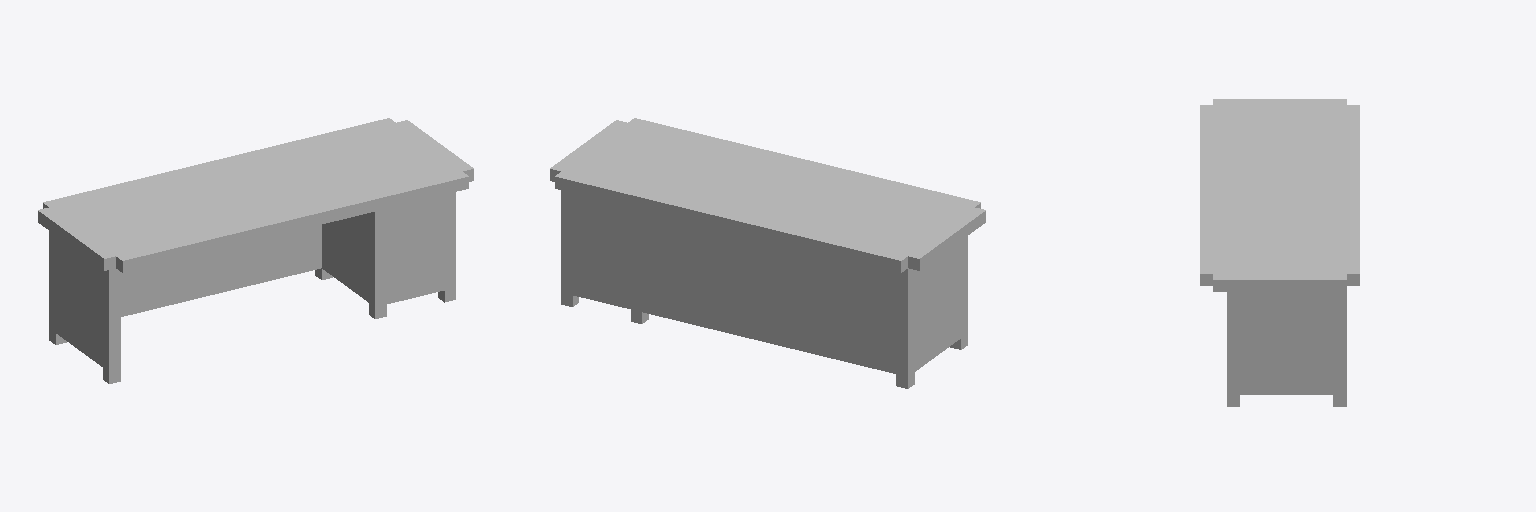
The model's file is 3D Voxel Office Pack-80.obj.
The picture shows the model from 3 angles: view 1: azimuth 30°, elevation 25°; view 2: azimuth 150°, elevation 25°; view 3: azimuth 270°, elevation 25°; orthographic projection.
Parts seen in each view (by area): view 1: object 1; view 2: object 1; view 3: object 1.
Boxes of the visible parts, x1=… form: object 1: x1=38, y1=118, x2=473, y2=383; object 1: x1=550, y1=118, x2=985, y2=388; object 1: x1=1200, y1=99, x2=1359, y2=406.
Bounding box in the file's own units: 3.2 × 1.1 × 1.2.